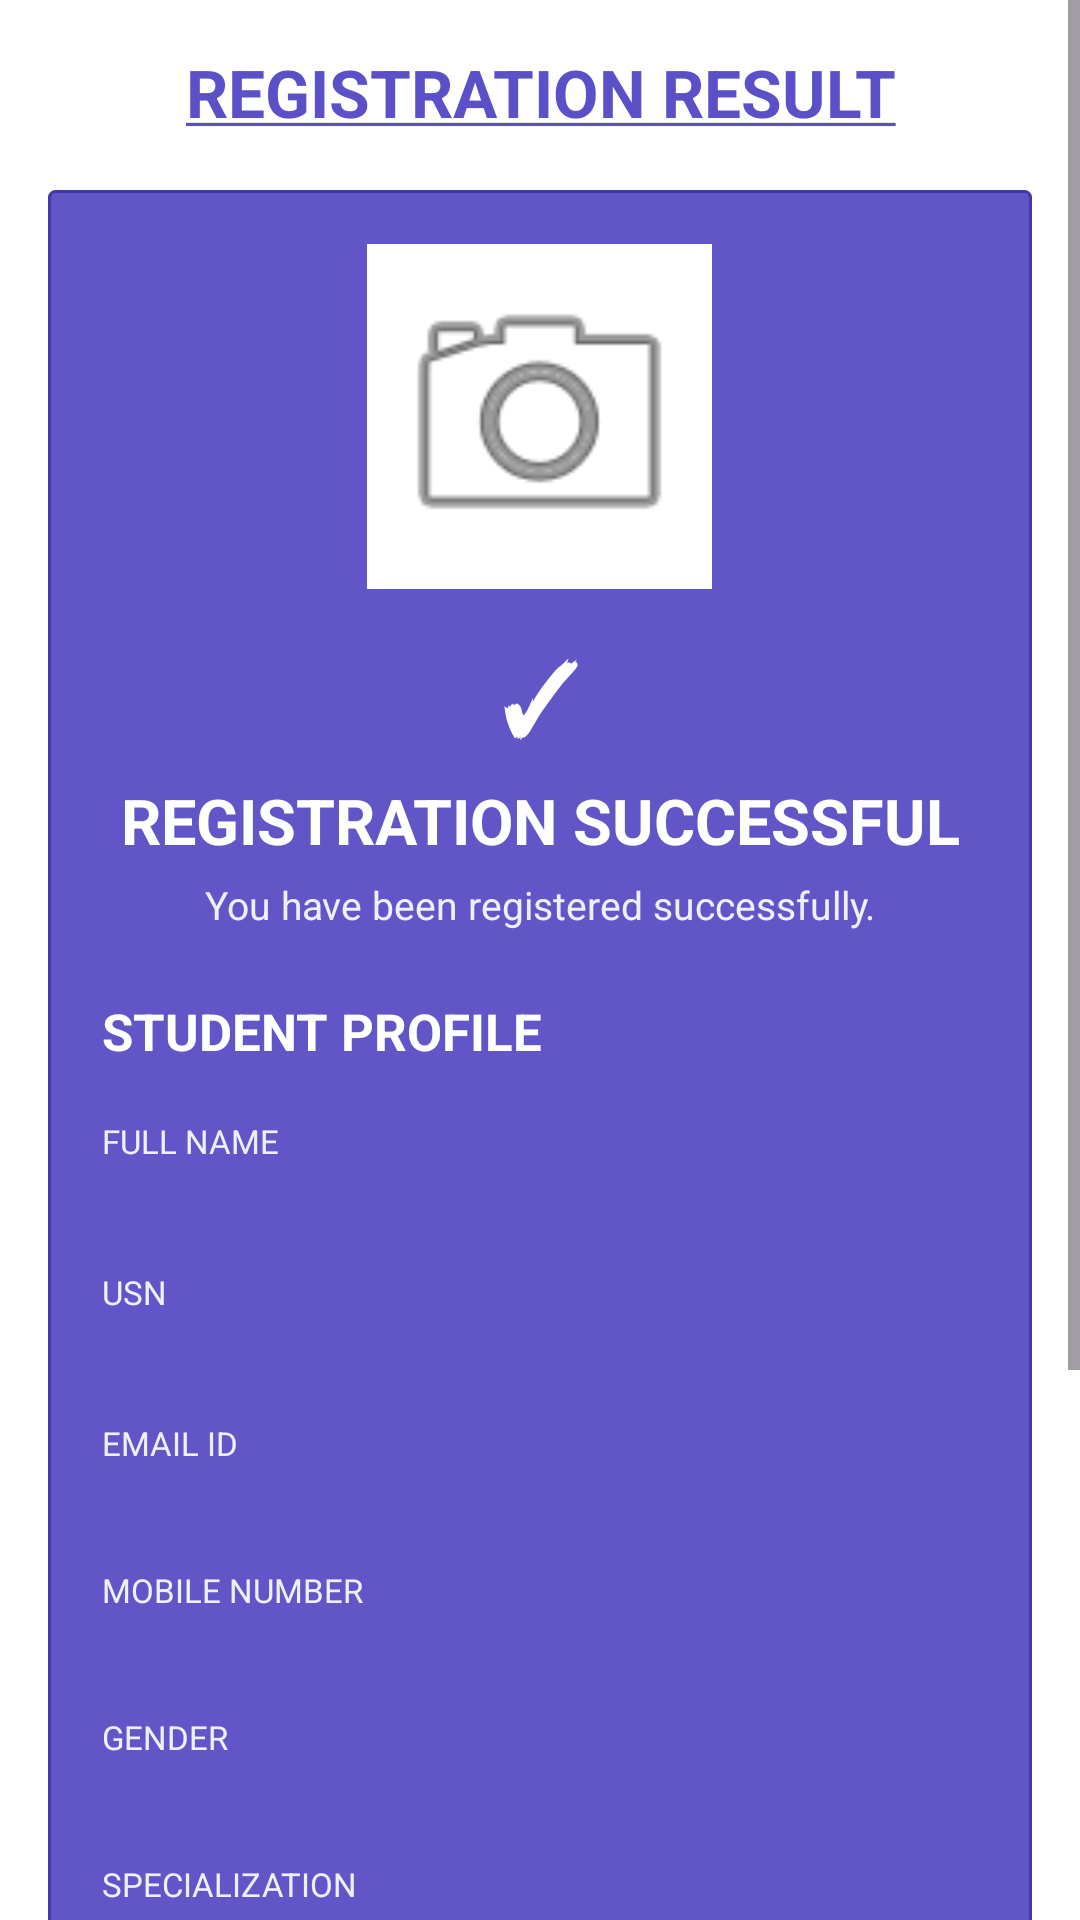

Point at icon controls on the screen. Image size 1080x1920, points as (x,y).
Profile photo: (539,416)
